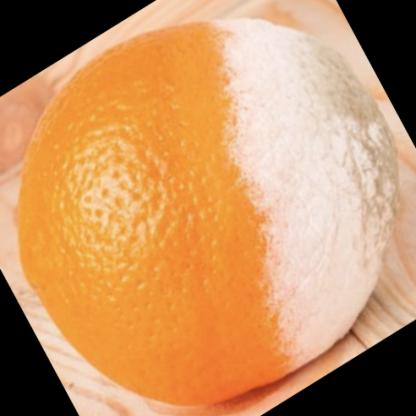rotten: (21, 22, 381, 404)
